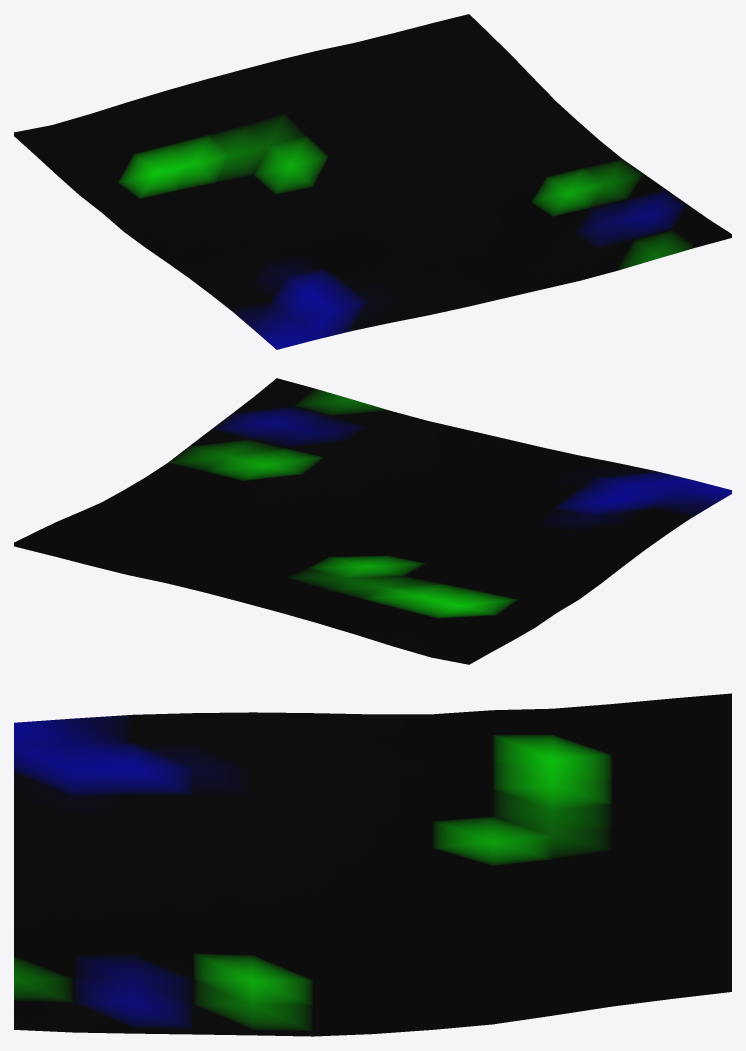
Rendered from coast_7_3.glb.
3 renders of one model, top to bottom at view 1: azimuth 30°, elevation 25°; view 2: azimuth 150°, elevation 25°; view 3: azimuth 270°, elevation 25°, orthographic. The views are drawn at different scales.
Visible parts, largest first — view 1: terrain; view 2: terrain; view 3: terrain.
Part boxes in pixels (left/top/right/bottom): terrain: left=14, top=14, right=731, bottom=349; terrain: left=14, top=378, right=731, bottom=664; terrain: left=14, top=693, right=731, bottom=1036.
Size of the model in its own units: 192 by 15.24 by 192.
